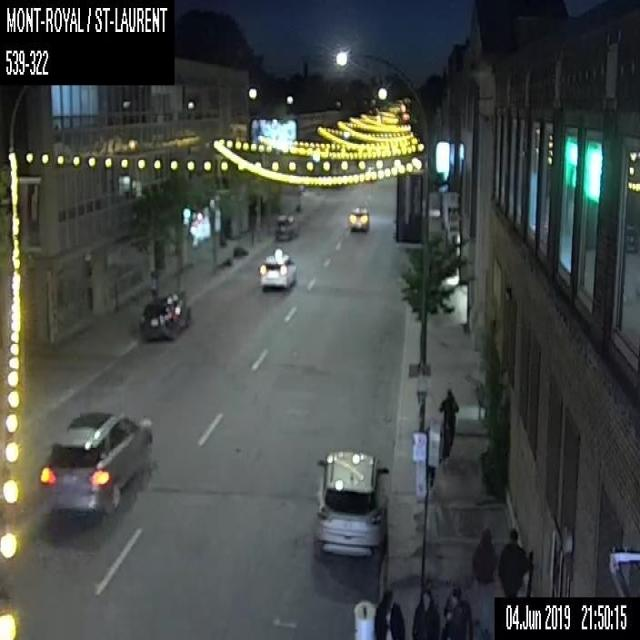cyclist: (435, 387, 460, 462)
pedestrian: (472, 526, 497, 638), (497, 524, 529, 596), (371, 586, 407, 638), (442, 584, 473, 639), (410, 584, 440, 639)
vehicle: (37, 407, 153, 525), (311, 443, 391, 564), (139, 293, 192, 340), (257, 248, 297, 292), (345, 205, 371, 235), (274, 213, 298, 241)
